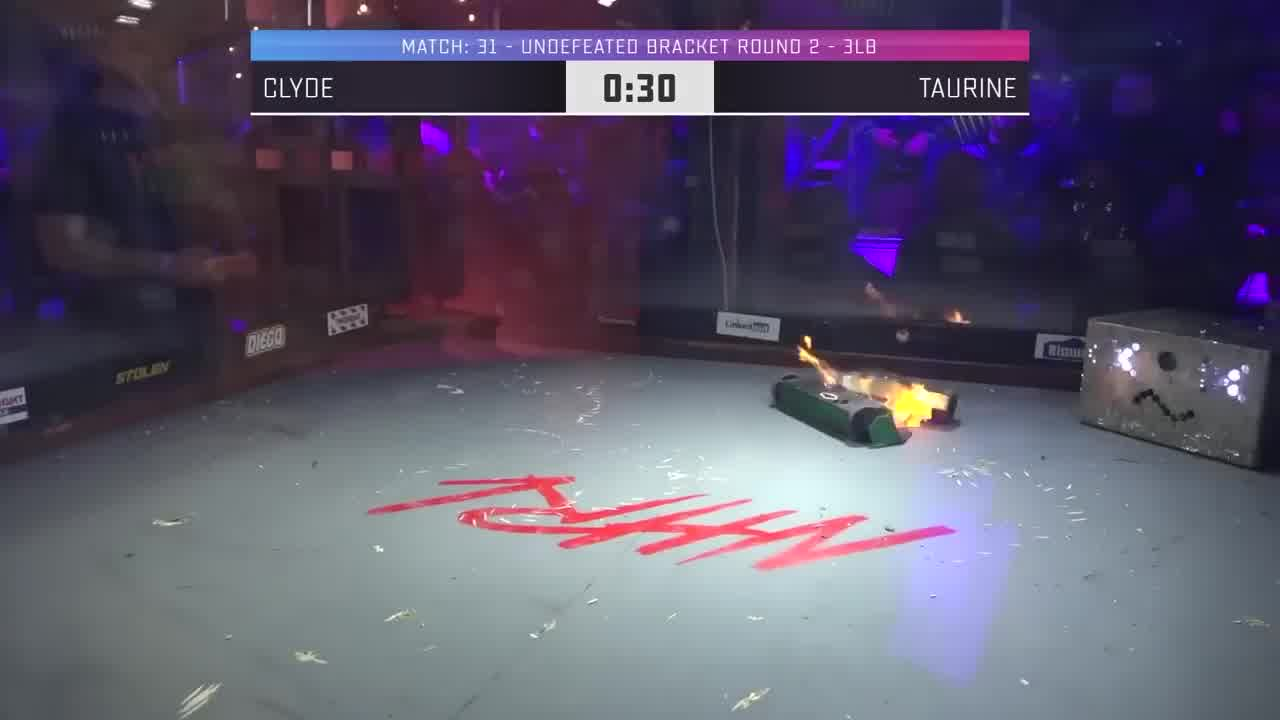combatbot: (768, 373, 911, 450), (826, 371, 956, 425)
housebot: (1079, 310, 1280, 472)
